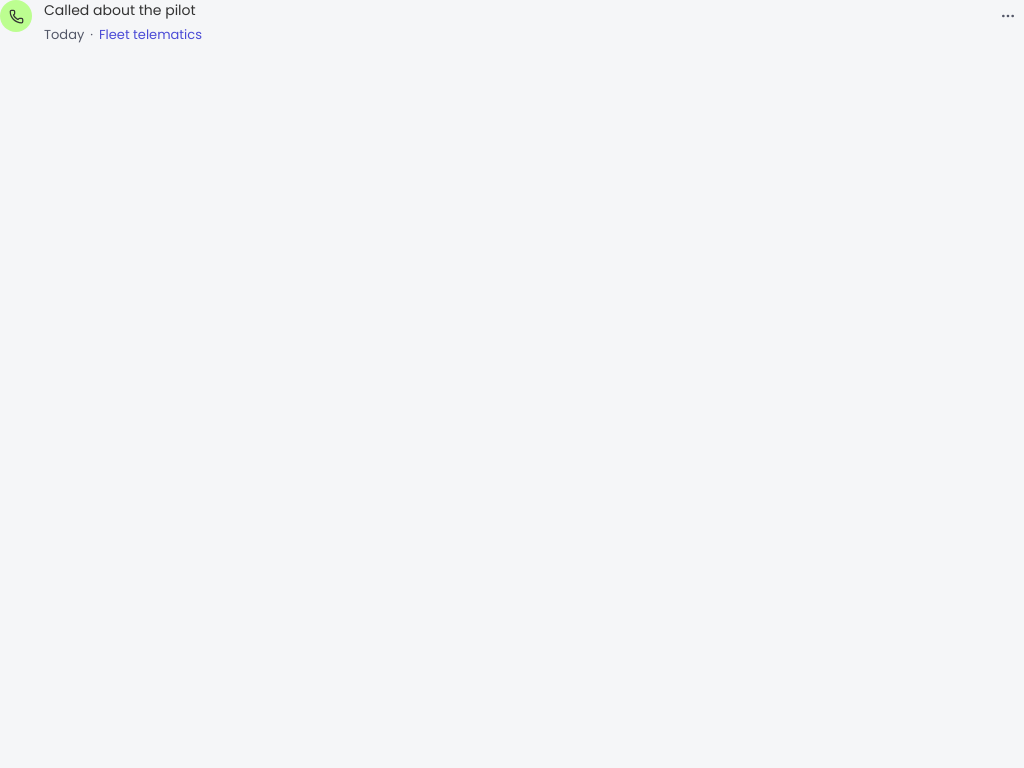
Test: a timeline › deletes an entry after asking
This screenshot has width=1024, height=768.
Click the button named "Actions for Called about the pilot" at coordinates (1008, 16), box [992, 0, 1023, 32]
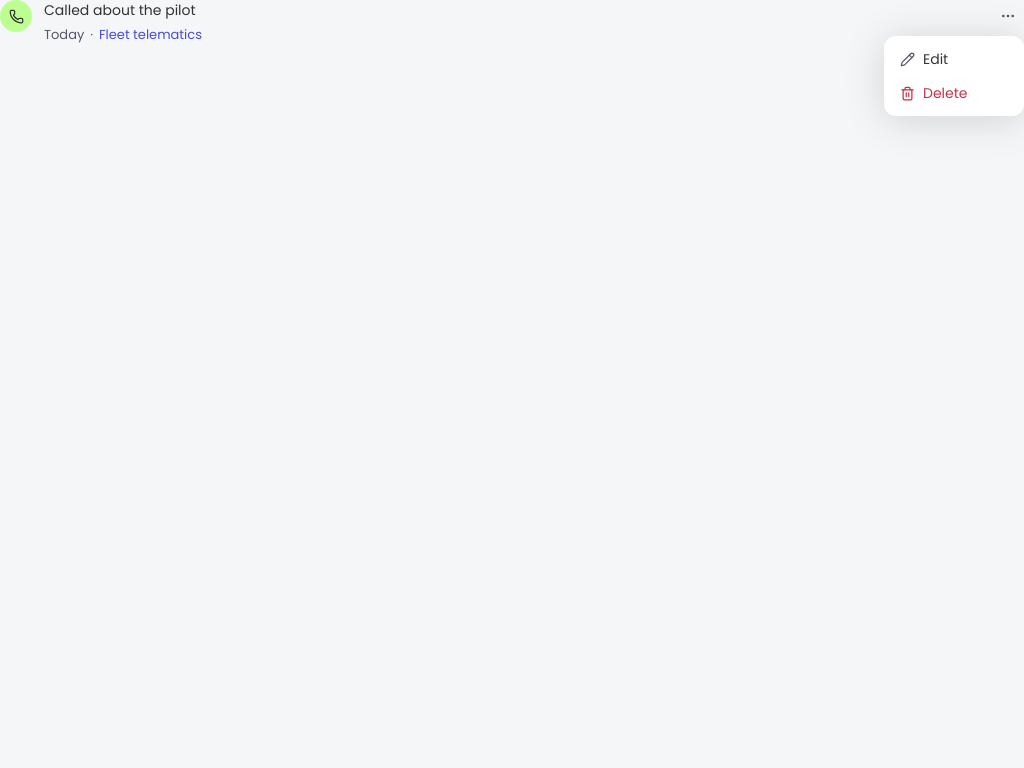
Click the menu item "Delete" at coordinates (934, 92), box [900, 82, 968, 102]
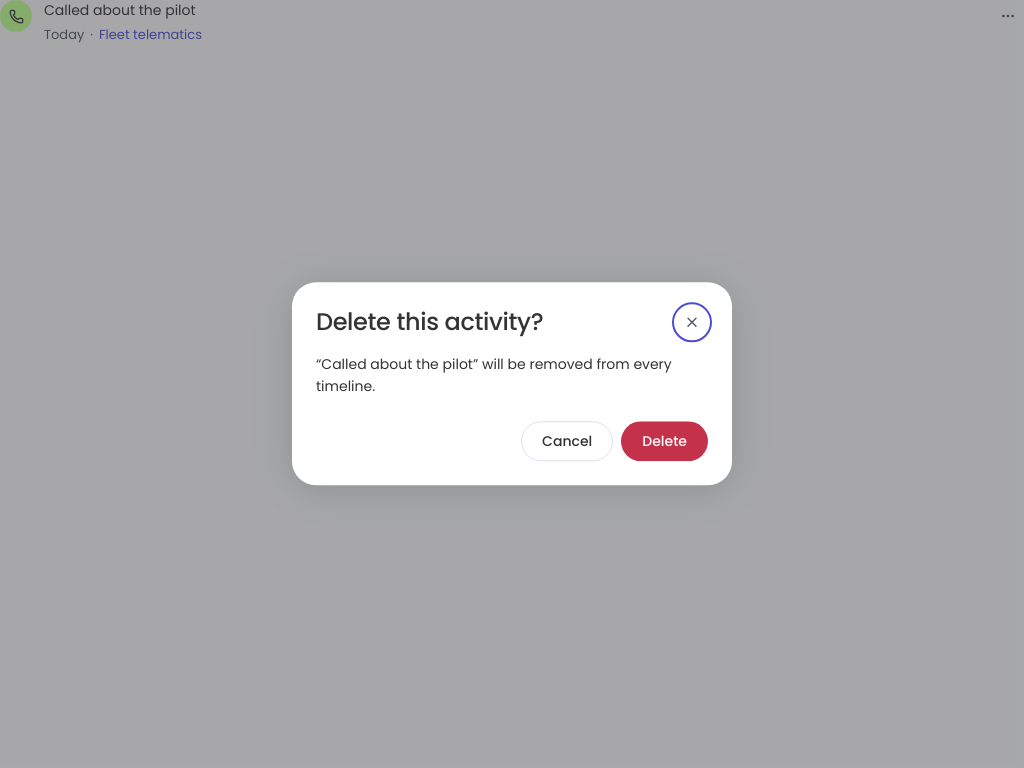
Check: the text "“Called about the pilot” will be removed from every timeline." is shown, box [316, 354, 708, 398]
Click the button "Delete" at coordinates (665, 442), box [621, 422, 708, 462]
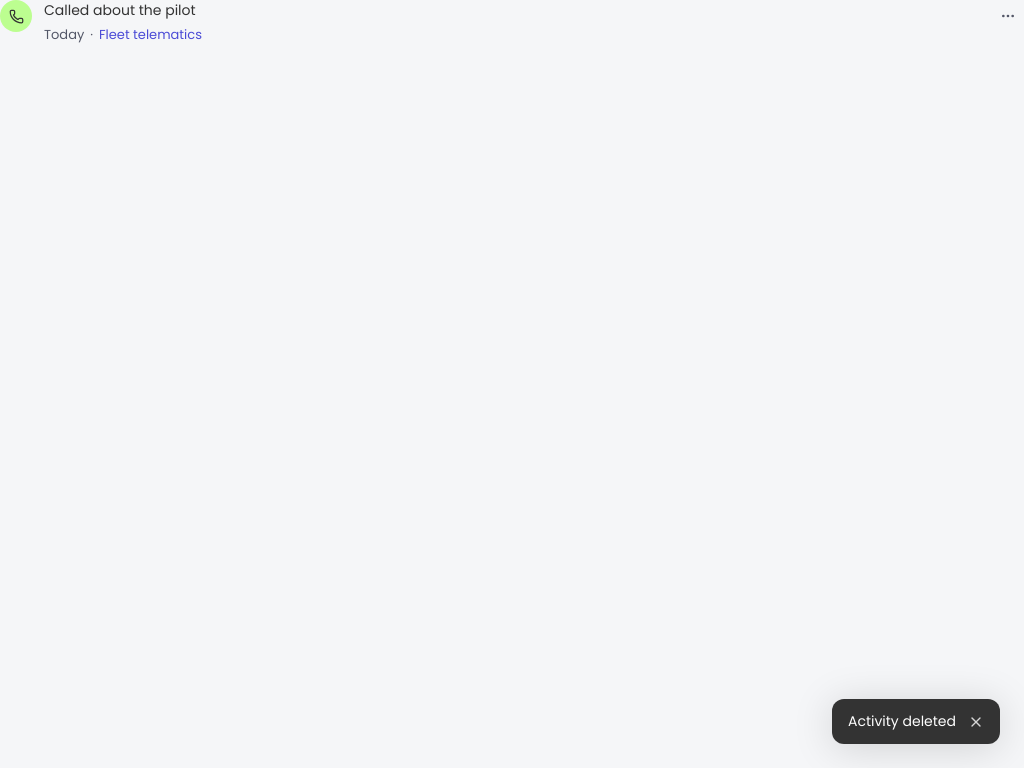
Check: the text "Activity deleted" is shown, box [848, 711, 956, 732]
